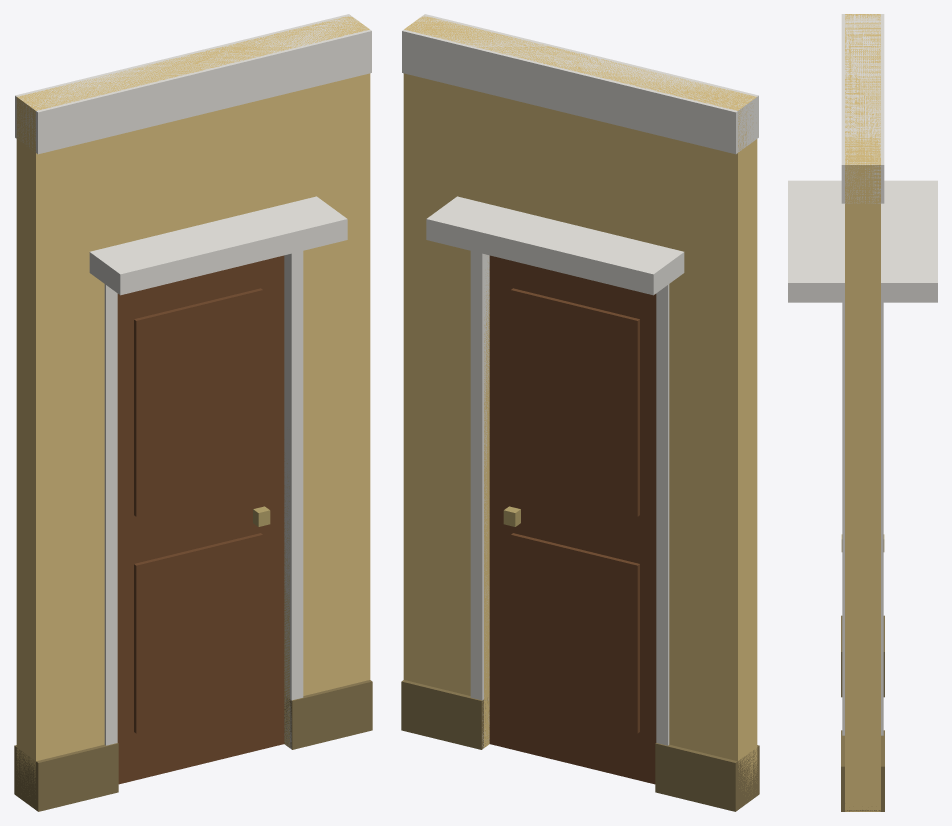
File: mod-reboco-amarelo-porta.gltf
The picture shows the model from 3 angles, left to right: view 1: azimuth 30°, elevation 25°; view 2: azimuth 150°, elevation 25°; view 3: azimuth 270°, elevation 25°; orthographic projection. The views are drawn at different scales.
Parts seen in each view (by area): view 1: mod-reboco-amarelo-porta; view 2: mod-reboco-amarelo-porta; view 3: mod-reboco-amarelo-porta.
Part boxes in pixels (x1,y1,x2,y2): mod-reboco-amarelo-porta: [14, 14, 372, 811]; mod-reboco-amarelo-porta: [401, 14, 759, 811]; mod-reboco-amarelo-porta: [788, 14, 937, 811].
Bounding box in the file's own units: 1 × 2 × 0.42.
